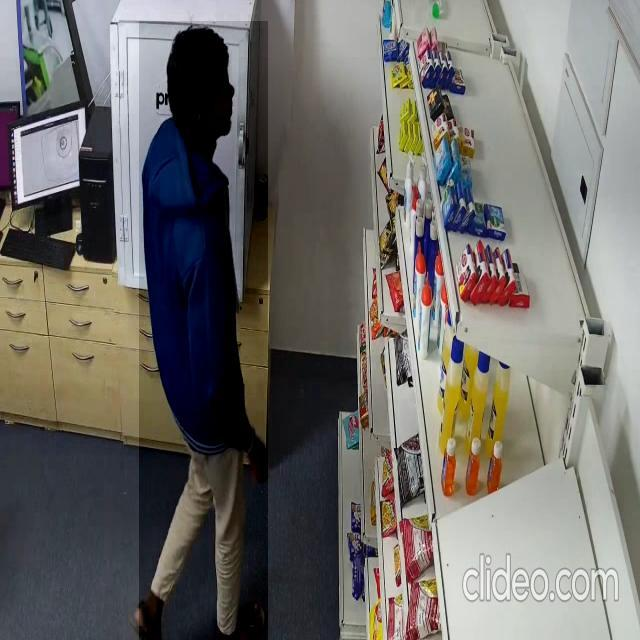normal: (139, 21, 268, 640)
